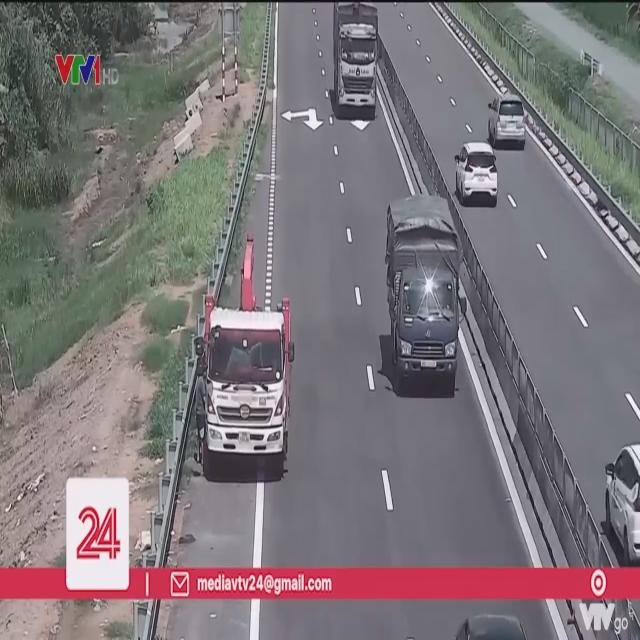car: (454, 142, 498, 204), (486, 98, 524, 152)
truck: (203, 294, 293, 468), (387, 199, 462, 391), (336, 4, 380, 114)
